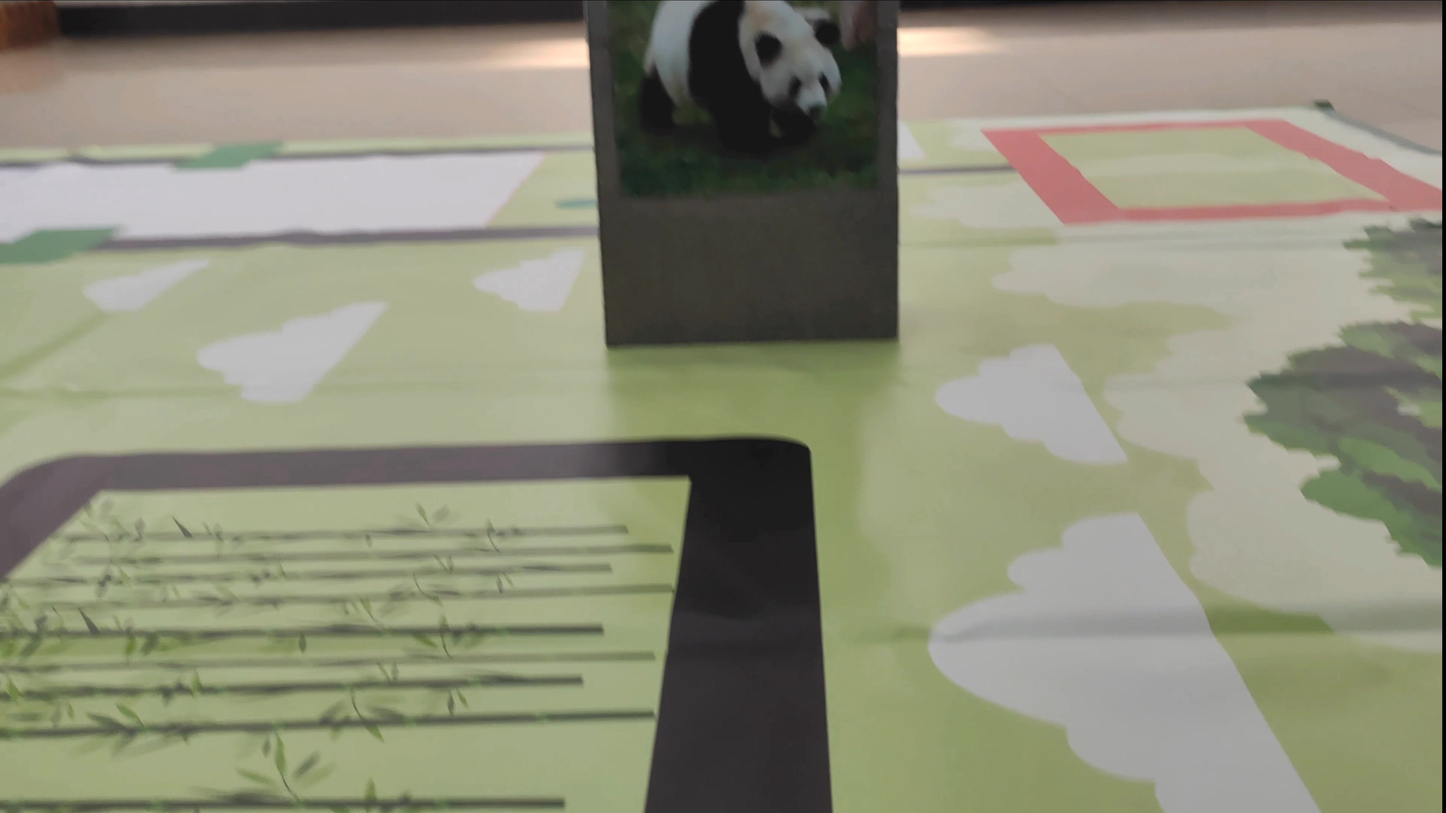panda: (629, 4, 869, 171)
